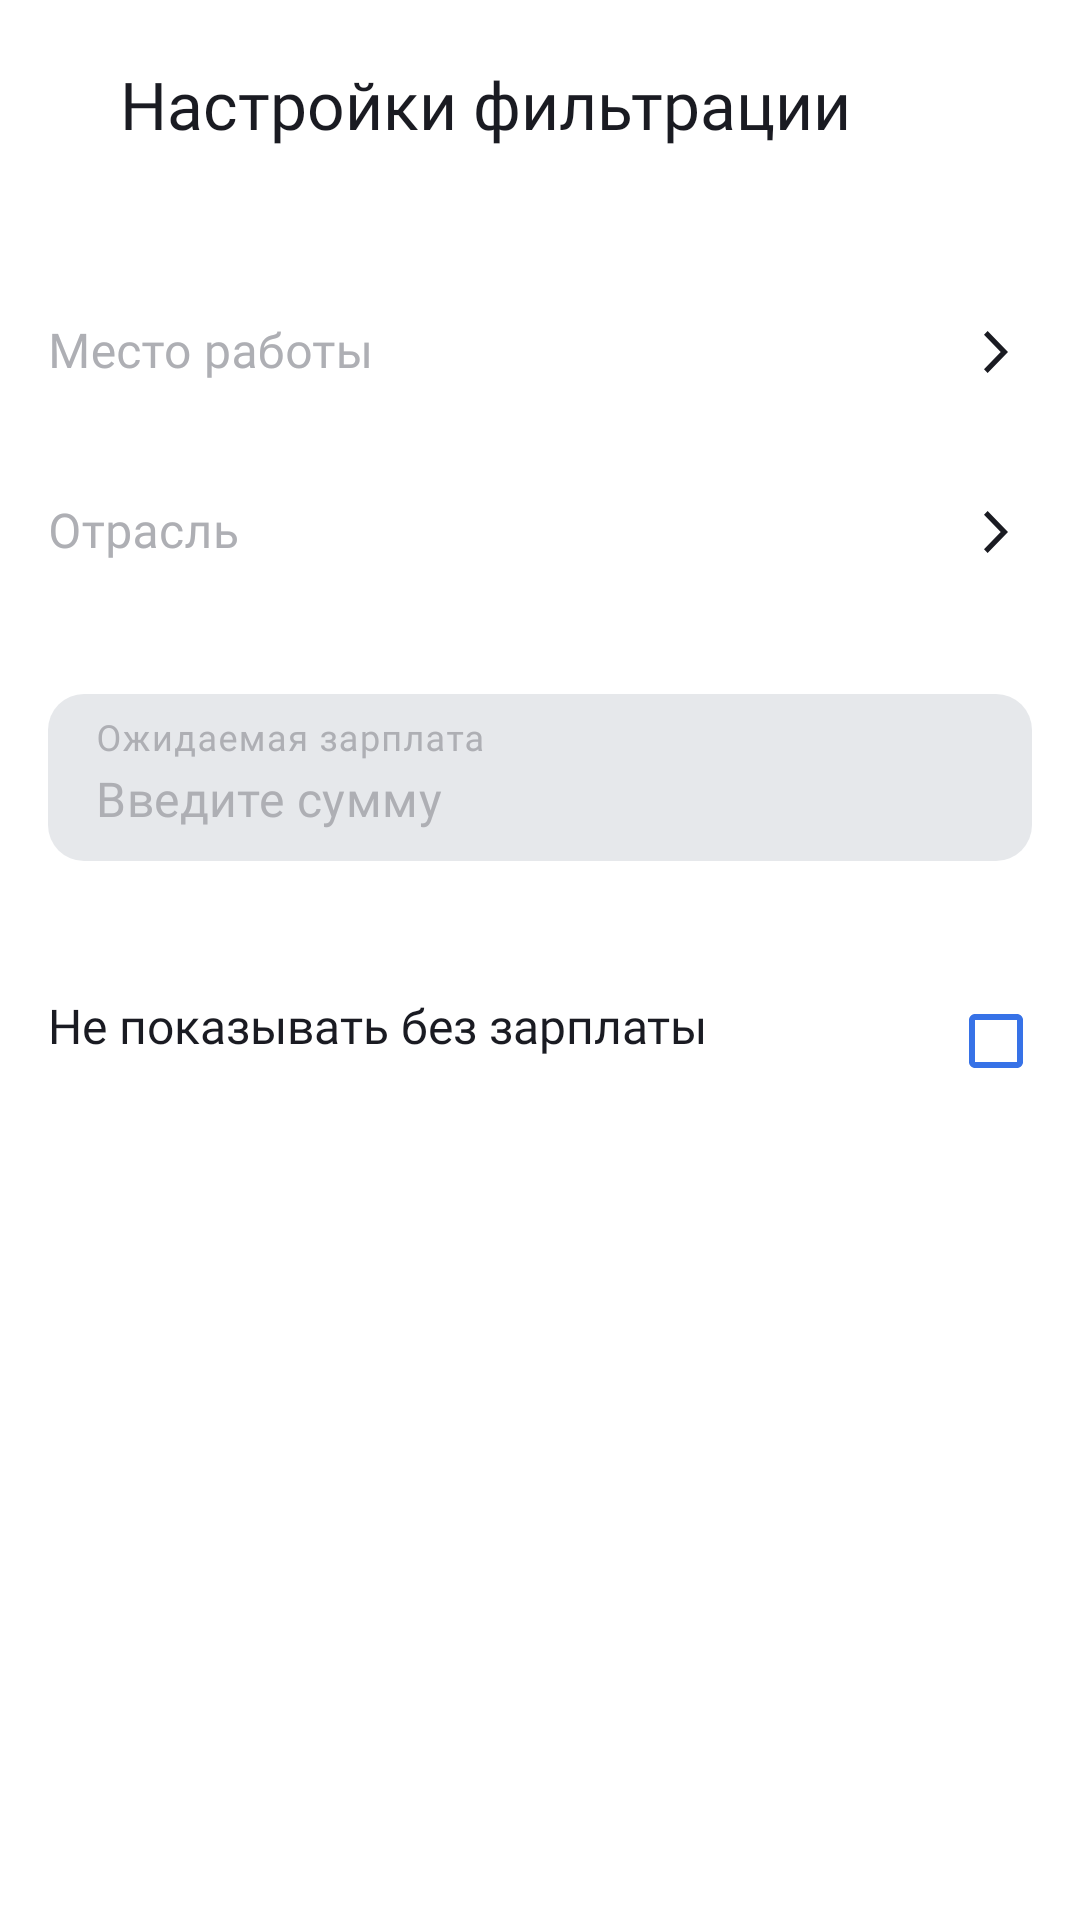

Where icons sit on this 1080w x 1920h app screen, as (x1,y1,x2,y2):
forward: (984,331,1008,373), (984,511,1008,553)
